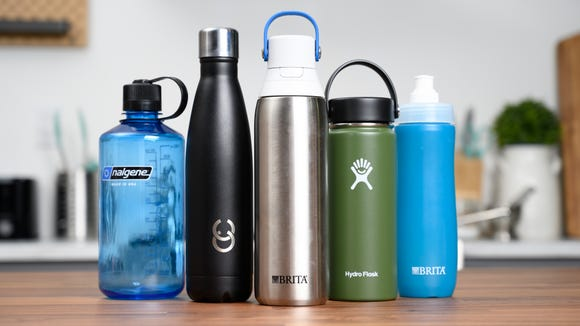bottle: (83, 73, 191, 302), (259, 7, 331, 317), (186, 15, 256, 307), (329, 40, 397, 321), (396, 64, 460, 302)
